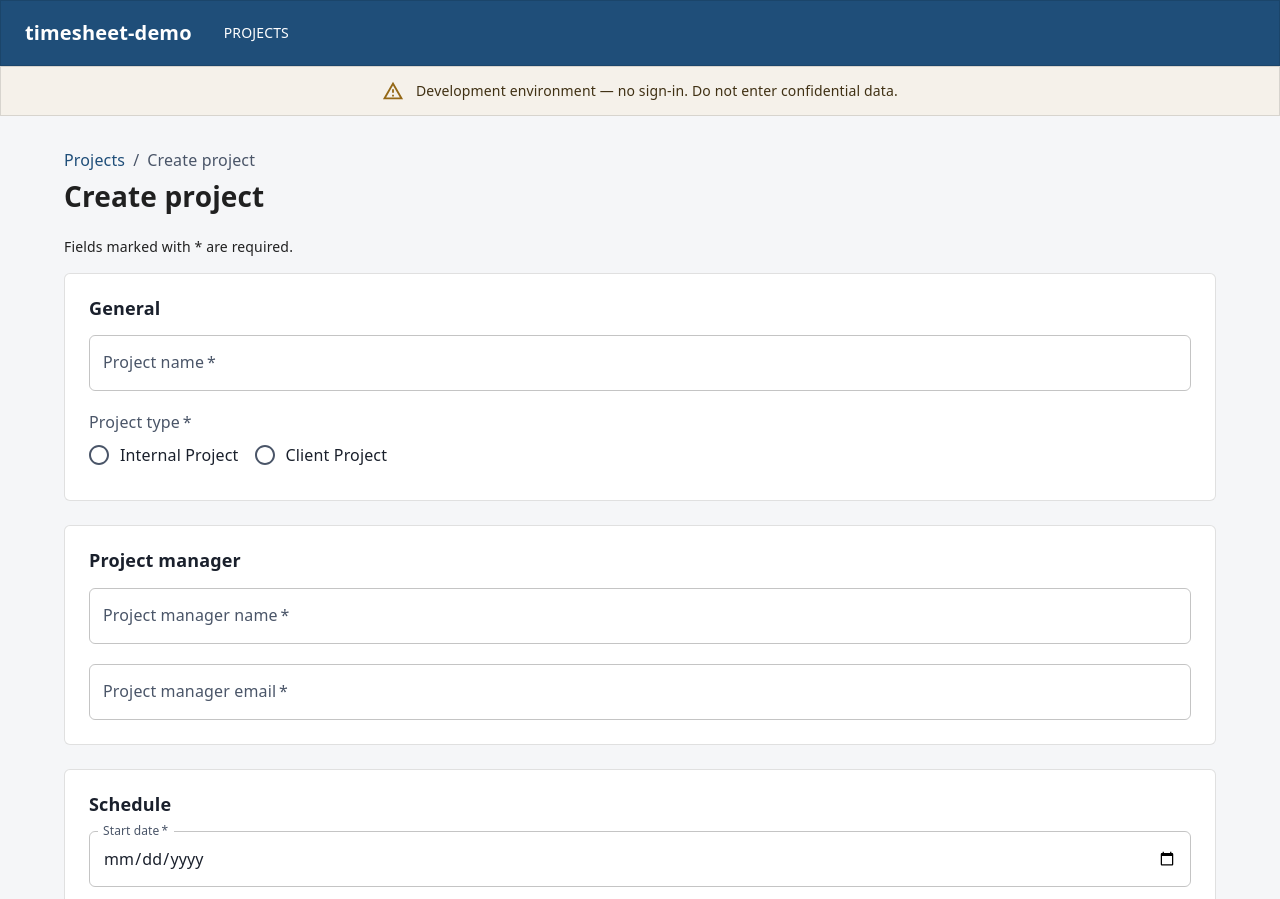
it: ProjectCreatePage › shows Client name only for Client Projects
Expected: the heading "Create project" is shown, [64,180,264,213]
Expected: the field labelled "Client name" is not shown
Click the radio button labelled "Client Project" at {"x": 320, "y": 455}, box [252,443,387,467]
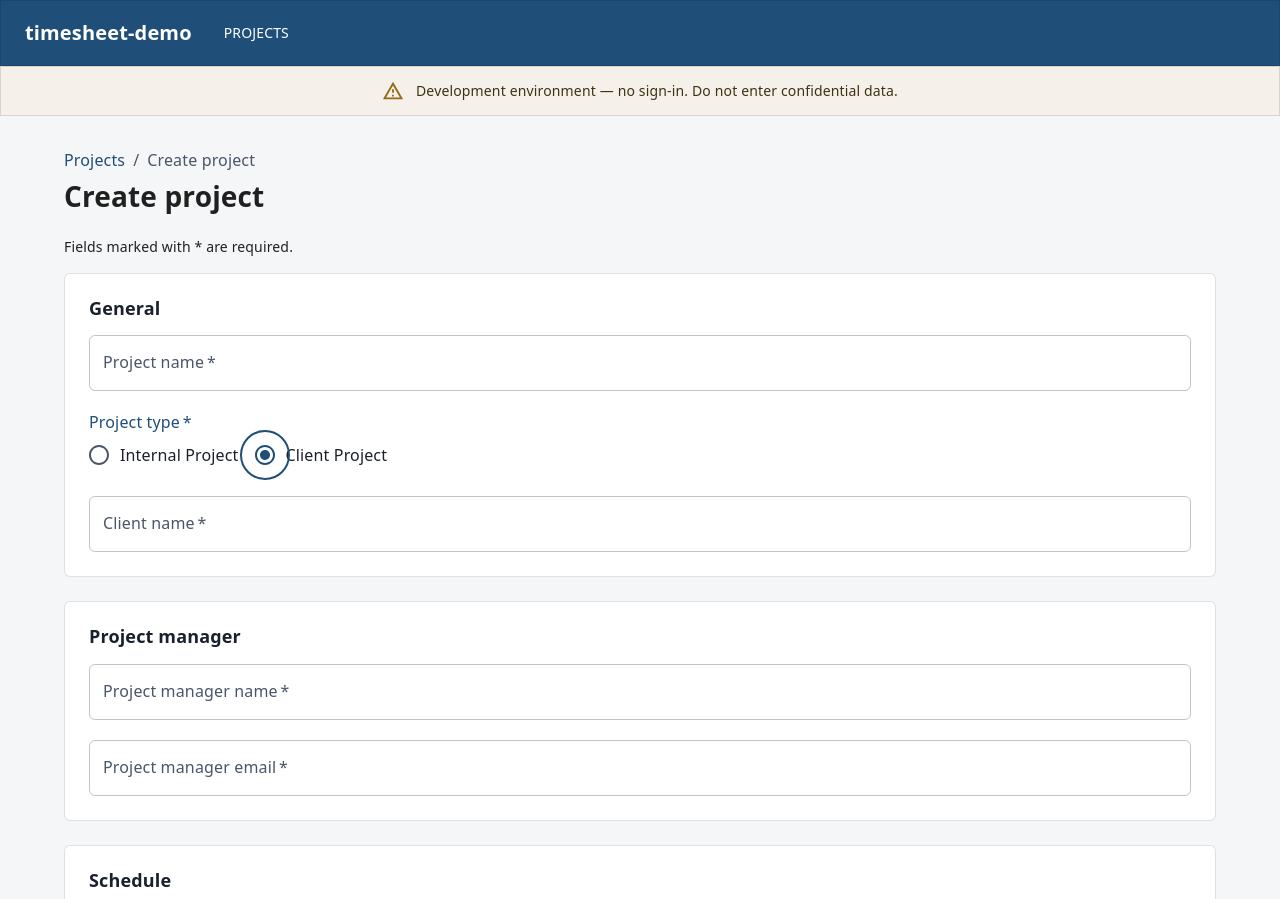
Expected: the field labelled "Client name *" is shown, [89,496,1191,552]
Click the radio button labelled "Internal Project" at {"x": 163, "y": 455}, box [87,443,238,467]
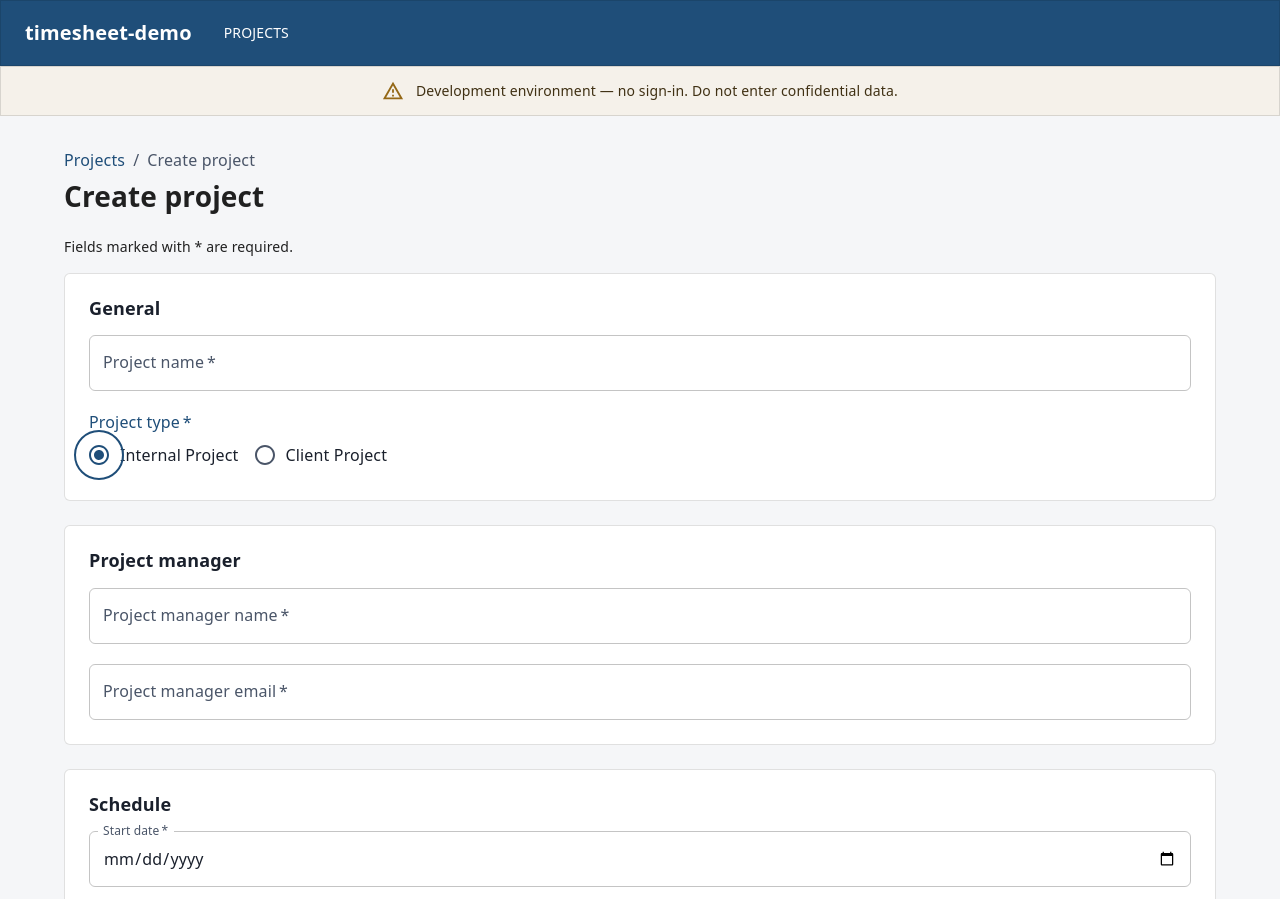
Expected: the label labelled "Client name" is gone
